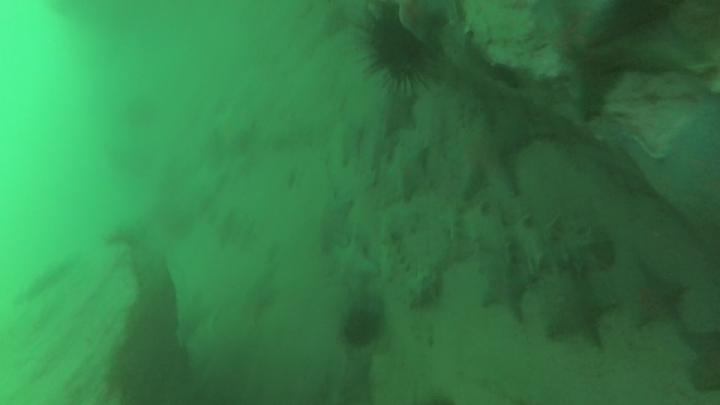echinus: (345, 1, 442, 97)
holothurian: (438, 199, 621, 270)
starfish: (530, 1, 715, 129), (545, 266, 612, 350), (479, 250, 535, 328), (621, 270, 688, 333), (318, 348, 377, 405), (326, 242, 382, 299), (317, 184, 357, 254), (392, 149, 439, 205), (394, 1, 459, 40), (376, 89, 425, 139), (326, 122, 368, 167)
